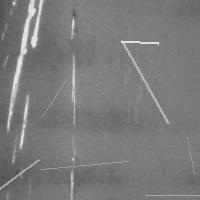scratches: (5, 1, 43, 147), (117, 36, 173, 128), (64, 13, 81, 199), (0, 155, 43, 200), (36, 156, 132, 174), (37, 73, 72, 121), (182, 132, 199, 179), (141, 189, 200, 200), (116, 36, 163, 48)
